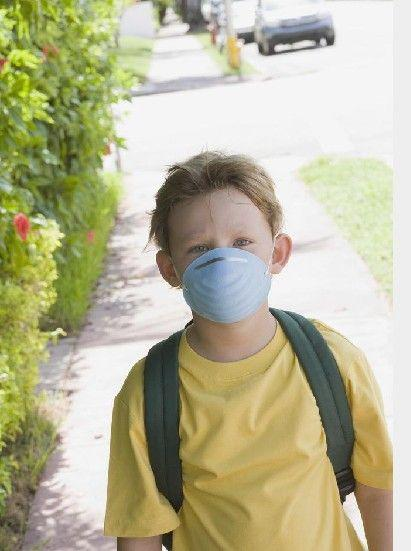OK: (175, 220, 276, 322)
